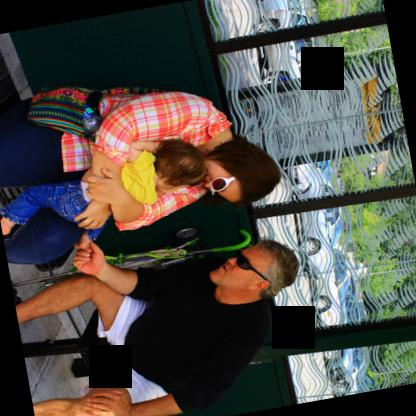handbag: (26, 80, 162, 137)
